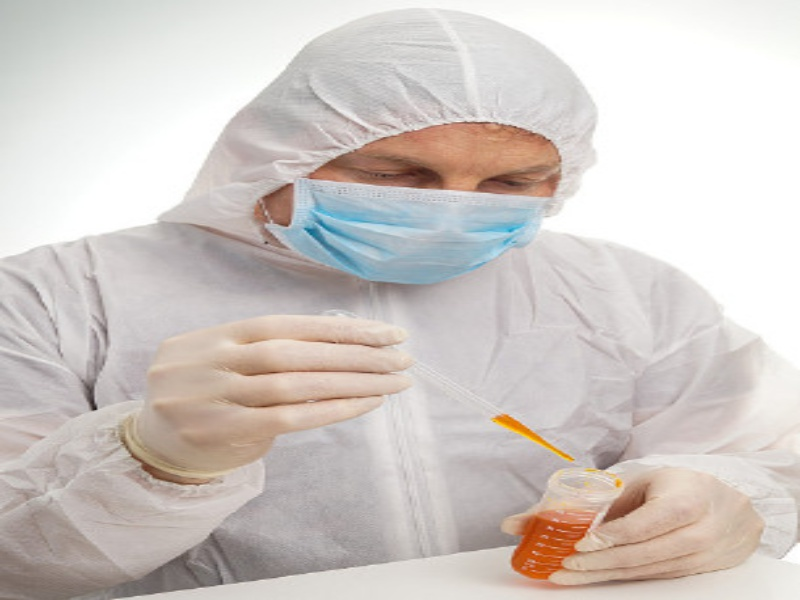mask: (179, 4, 638, 283)
